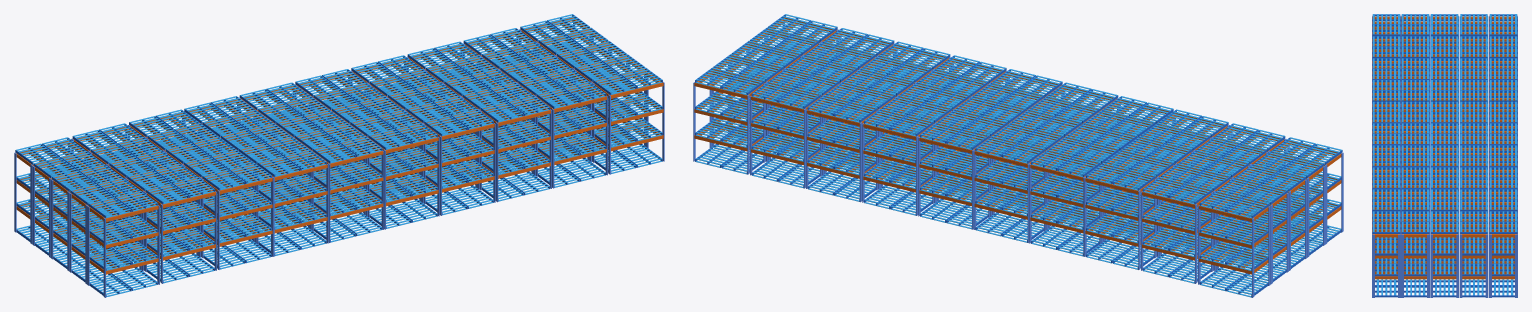
Rendered from mets.glb.
3 renders of one model, left to right at view 1: azimuth 30°, elevation 25°; view 2: azimuth 150°, elevation 25°; view 3: azimuth 270°, elevation 25°, orthographic. The views are drawn at different scales.
Parts seen in each view (by area): view 1: no part large enough to name; view 2: no part large enough to name; view 3: bars1_1 (×2), bars1_1_1, bars1, bars1_2, bars1_1_2, bars1_3, bars1_1_3, bars1_4, bars1_1_4.
Part boxes in pixels (left/top/right/bottom): bars1_1 (×2): left=1485, top=234, right=1491, bottom=297; bars1_1_1: left=1459, top=234, right=1462, bottom=297; bars1: left=1515, top=234, right=1517, bottom=297; bars1_2: left=1456, top=234, right=1458, bottom=297; bars1_1_2: left=1430, top=234, right=1432, bottom=297; bars1_3: left=1427, top=234, right=1429, bottom=297; bars1_1_3: left=1401, top=234, right=1403, bottom=297; bars1_4: left=1398, top=234, right=1400, bottom=297; bars1_1_4: left=1372, top=234, right=1374, bottom=297.
Bounding box in the file's own units: 30.53 × 4.27 × 8.6.
